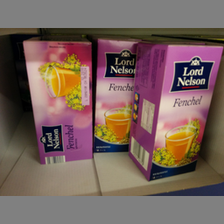tea: (127, 42, 221, 181), (21, 36, 95, 166), (93, 35, 138, 153)
